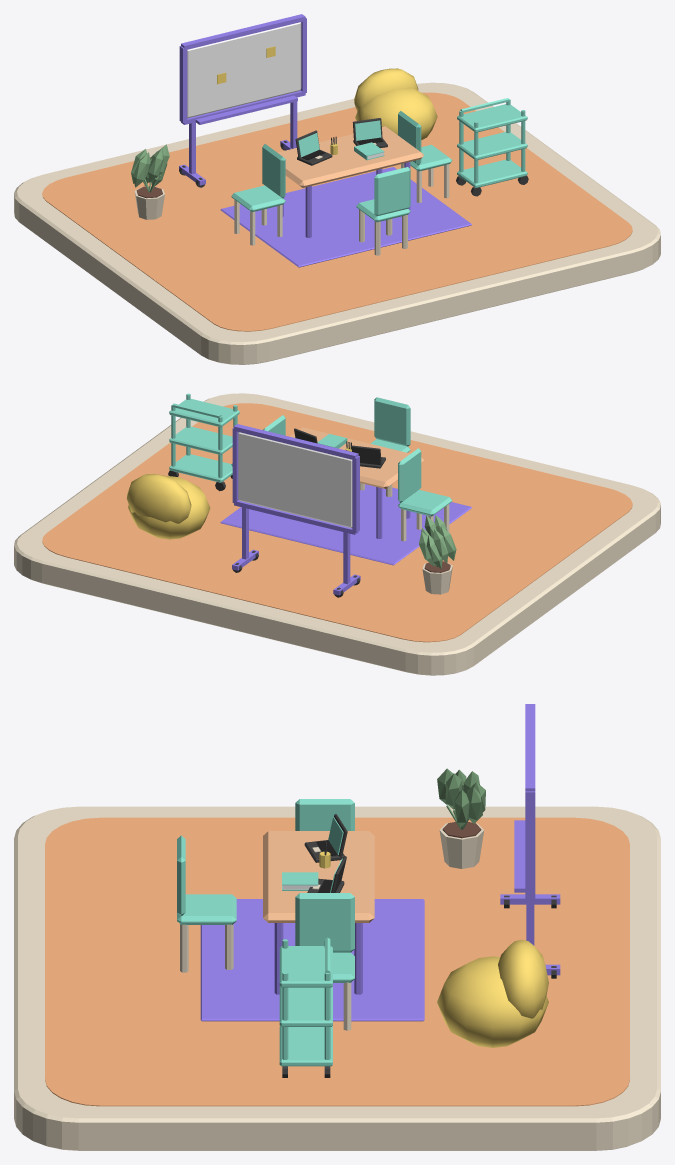
3 views of the same model, one above another, from view 1: azimuth 30°, elevation 25°; view 2: azimuth 150°, elevation 25°; view 3: azimuth 270°, elevation 25° (orthographic). The views are drawn at different scales.
Parts seen in each view (by area): view 1: COM-02 Floor Surface, COM-01 Rounded Base Direct, Rug, Writing surface, Rounded table top, Beanbag shell, Pot, Backrest.002, Back bolster, Tray.002, Tray.001, Tray (+8 smaller); view 2: COM-02 Floor Surface, COM-01 Rounded Base Direct, Writing surface, Rug, Back bolster, Pot, Beanbag shell, Backrest.002, Rounded table top, Tray, Tray.001, Tray.002 (+7 smaller); view 3: COM-02 Floor Surface, COM-01 Rounded Base Direct, Rug, Rounded table top, Beanbag shell, Pot, Backrest.001, Back bolster, Tray.002, Tray, Tray.001, Backrest (+6 smaller).
Part boxes in pixels (x1,y1,x2,y2): COM-02 Floor Surface: (42,92,632,331); COM-01 Rounded Base Direct: (14,82,660,364); Rug: (220,167,471,267); Writing surface: (187,22,301,118); Rounded table top: (277,126,423,187); Beanbag shell: (355,87,437,140); Pot: (131,144,169,219); Backrest.002: (374,167,410,216); Back bolster: (354,68,418,111); Tray.002: (457,104,527,132); Tray.001: (457,132,527,160); Tray: (457,159,527,188); COM-02 Floor Surface: (42,403,632,642); COM-01 Rounded Base Direct: (14,393,660,675); Writing surface: (238,432,352,527); Rug: (220,484,471,565); Back bolster: (126,474,191,523); Pot: (419,515,456,594); Beanbag shell: (128,476,210,539); Backrest.002: (374,397,410,446); Rounded table top: (290,427,423,488); Tray: (169,454,232,482); Tray.001: (169,426,232,454); Tray.002: (169,399,239,427); COM-02 Floor Surface: (45,817,629,1106); COM-01 Rounded Base Direct: (14,806,660,1150); Rug: (200,899,424,1021); Rounded table top: (263,831,374,922); Beanbag shell: (437,956,548,1047); Pot: (437,768,485,868); Backrest.001: (295,893,354,952); Back bolster: (498,939,548,1018); Tray.002: (279,946,332,987); Tray: (279,1026,332,1066); Tray.001: (279,986,332,1026); Backrest: (295,799,354,830).
Size of the model in its own units: 6 by 2.04 by 5.2.
Materials: 1 (1 with a texture image).
